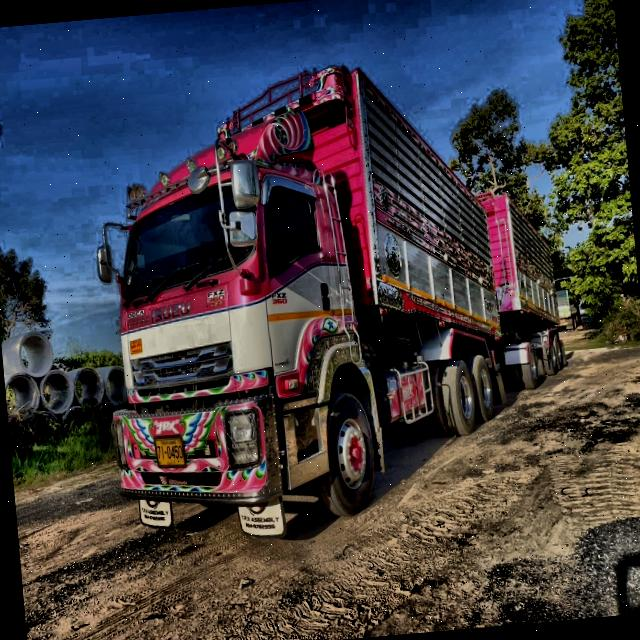trailer: (64, 27, 600, 541)
